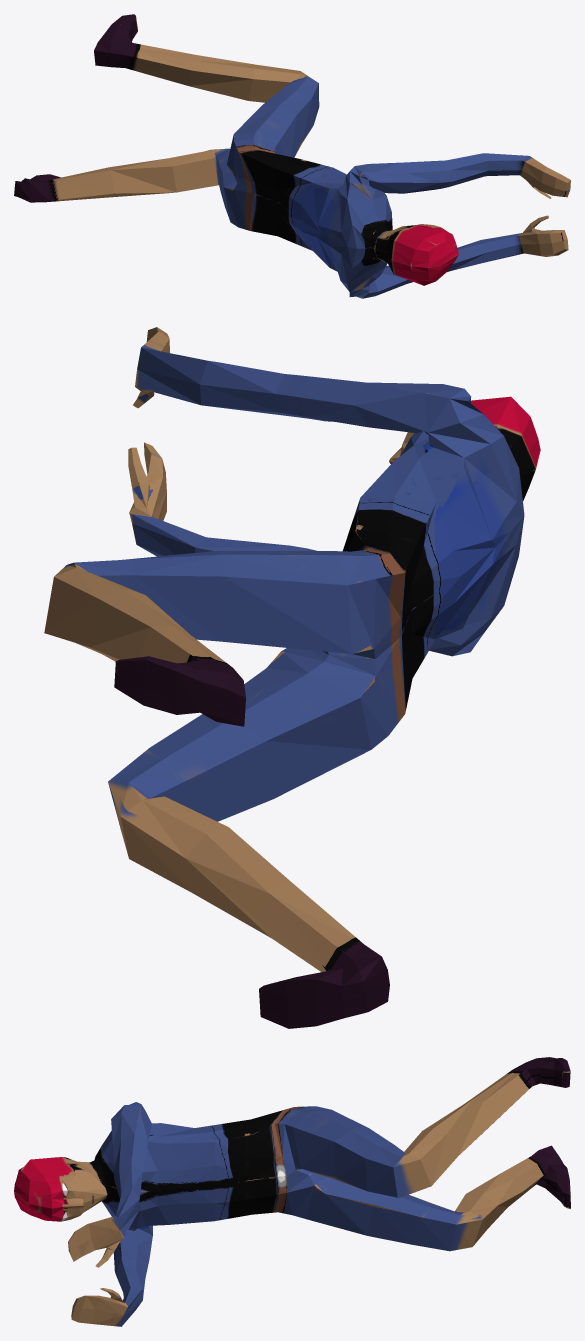
File: mirrorman_000016.obj
The picture shows the model from 3 angles, top to bottom: view 1: azimuth 30°, elevation 25°; view 2: azimuth 150°, elevation 25°; view 3: azimuth 270°, elevation 25°; orthographic projection. The views are drawn at different scales.
Visible parts, largest first — view 1: mirrorman_Cube.001_Material.001; view 2: mirrorman_Cube.001_Material.001; view 3: mirrorman_Cube.001_Material.001.
Boxes of the visible parts, <box> form: mirrorman_Cube.001_Material.001: <box>14,14,570,298</box>; mirrorman_Cube.001_Material.001: <box>44,327,540,1028</box>; mirrorman_Cube.001_Material.001: <box>14,1057,570,1326</box>.
Bounding box in the file's own units: 1.18 × 0.5493 × 1.51.
